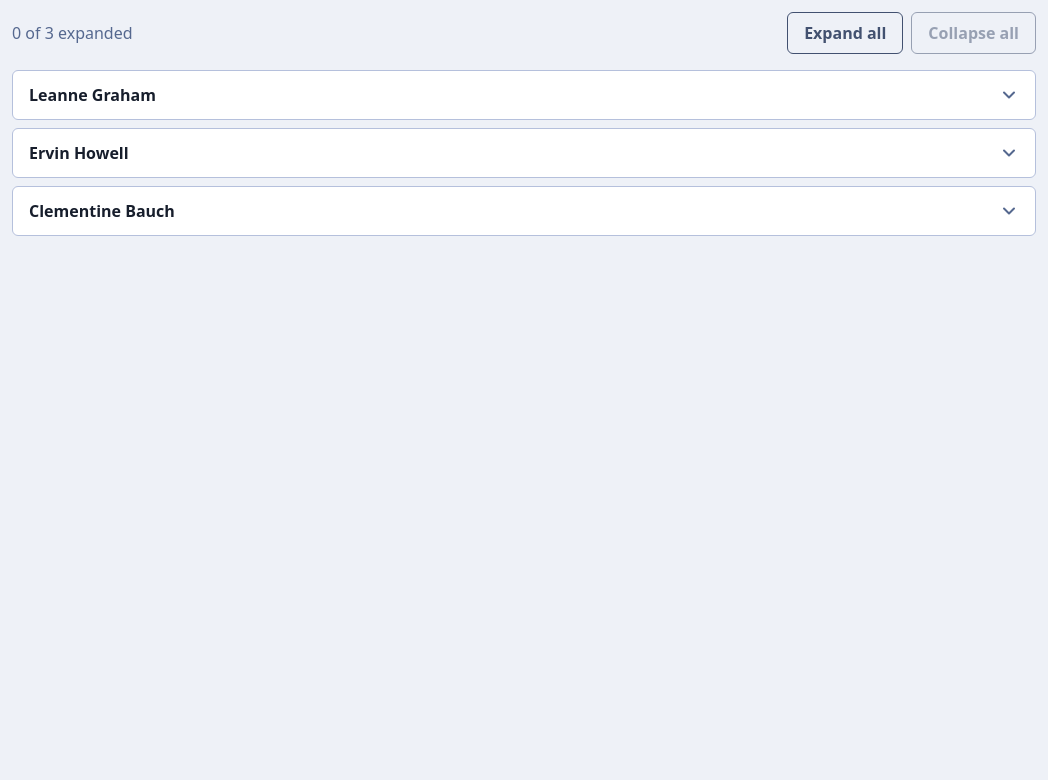
Scenario: UserList › reveals the address of several names at once
Step 1. Click the button "Leanne Graham" → (92, 95), box [13,71,1035,119]
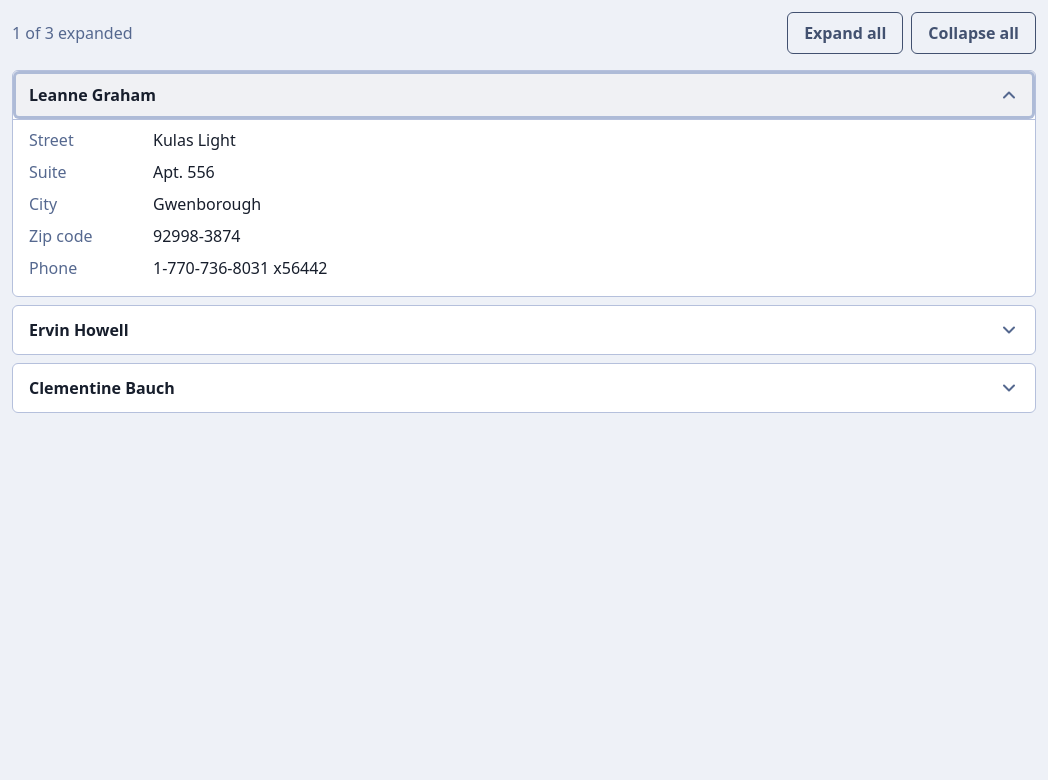
Step 2. Click the button "Ervin Howell" → (79, 330), box [13,306,1035,354]
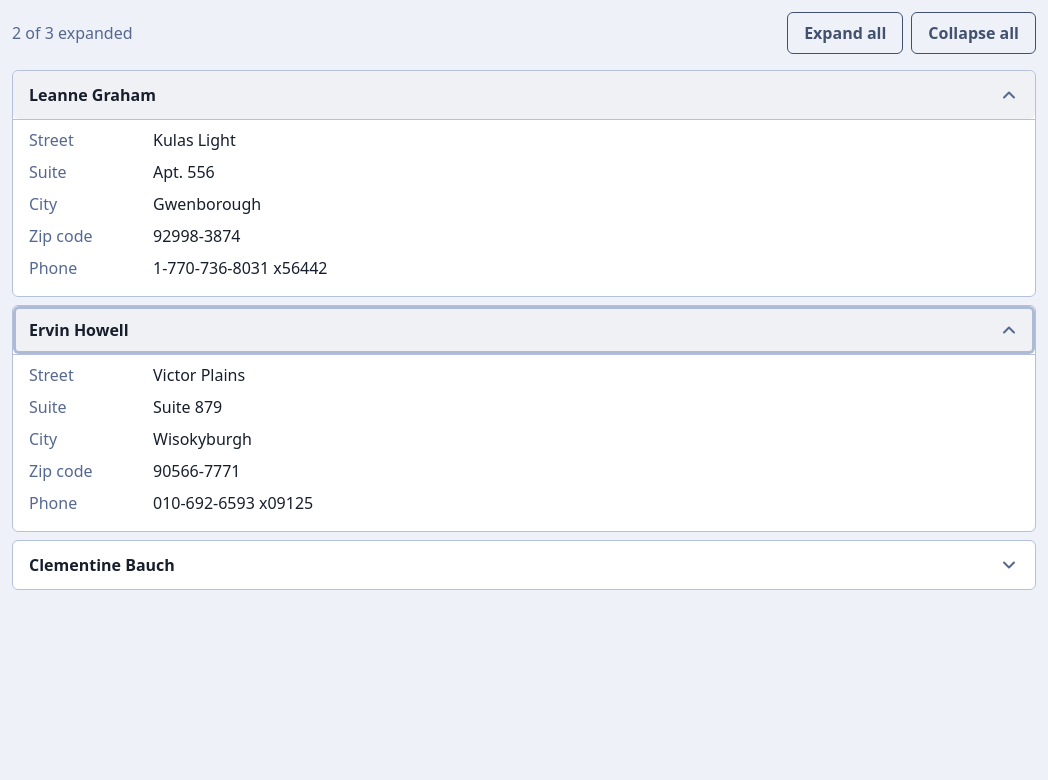
Check: the text "Kulas Light" is shown, box [153,129,236,151]
Check: the text "Victor Plains" is shown, box [153,364,245,386]
Check: the text "2 of 3 expanded" is shown, box [12,21,133,45]
